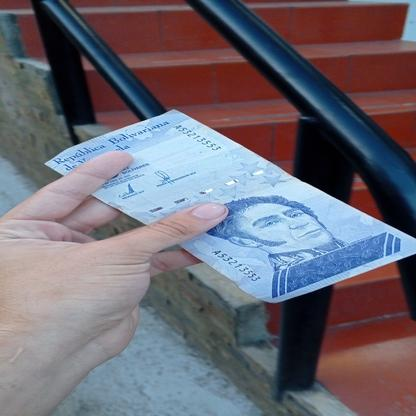ten-front-vef: (46, 108, 416, 306)
